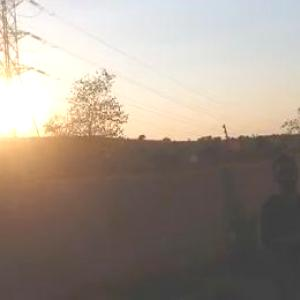follow: (249, 151, 299, 299)
